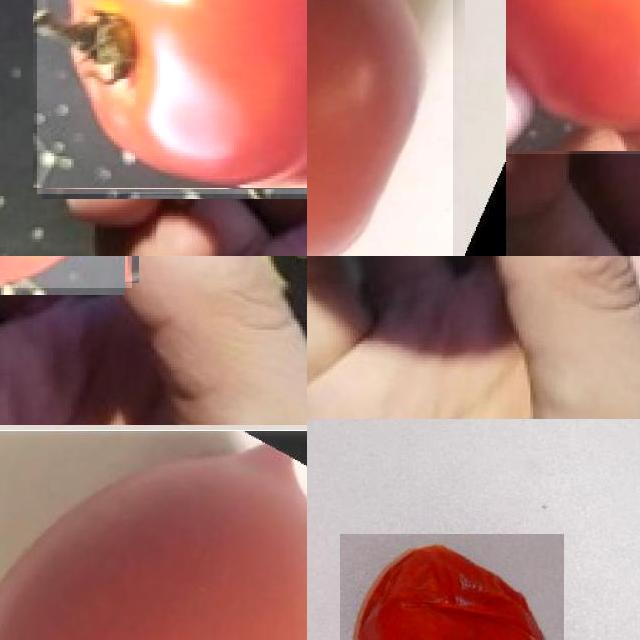Fresh Tomato: (0, 429, 307, 640), (37, 0, 307, 194), (307, 0, 453, 256), (506, 0, 640, 154)
Rotten Tomato: (340, 533, 563, 640)
